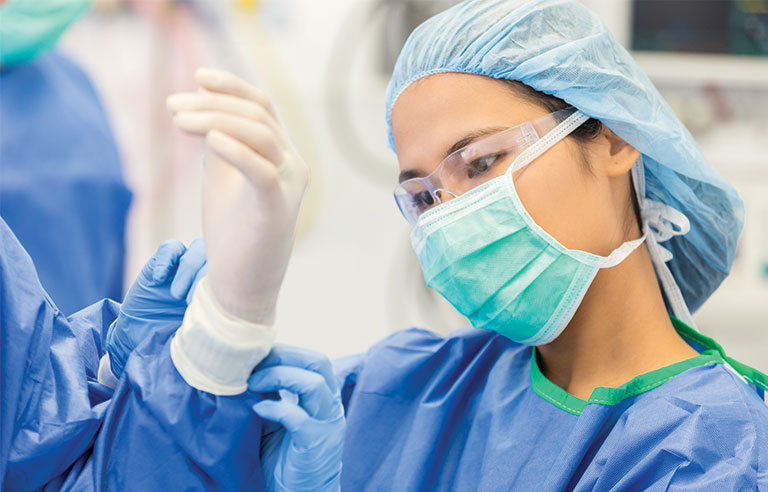Coverall: (344, 330, 768, 489)
Gloves: (165, 63, 306, 399), (247, 349, 344, 491), (110, 240, 205, 384)
Goggles: (389, 122, 544, 225)
with_mask: (393, 148, 593, 346)
